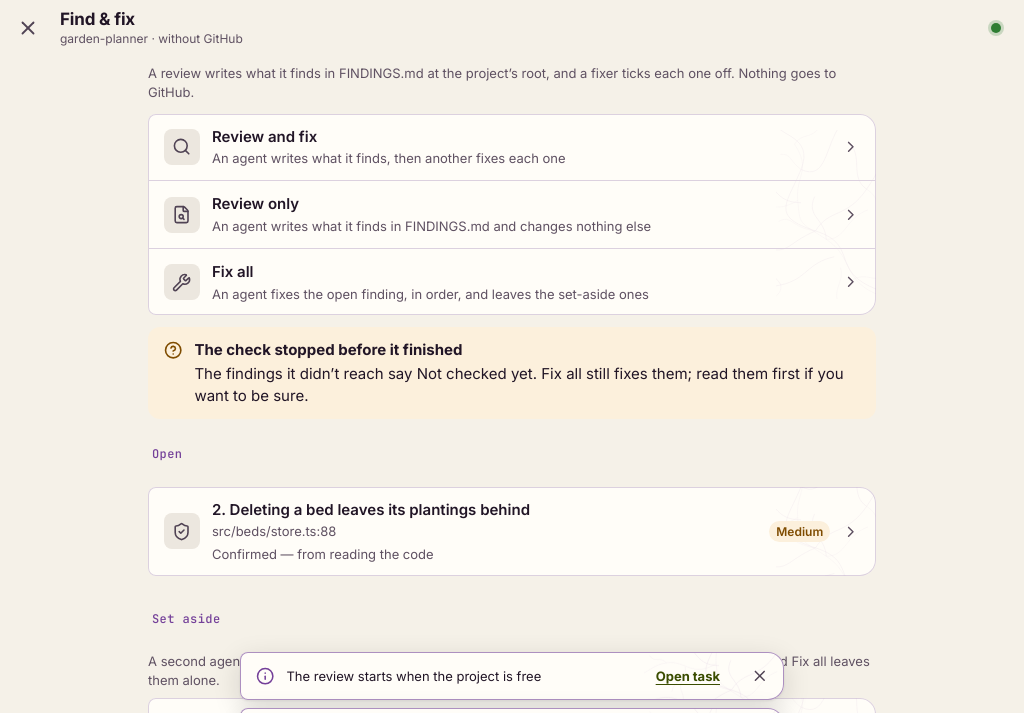
says when the check stopped before it finished, and doesn't hold Fix all for it
Expected: the text "The check stopped before it finished" is shown, [194,340,462,360]
Click the button "Fix all": coordinates (182, 282) [148,248,876,316]
Wait 900 ms
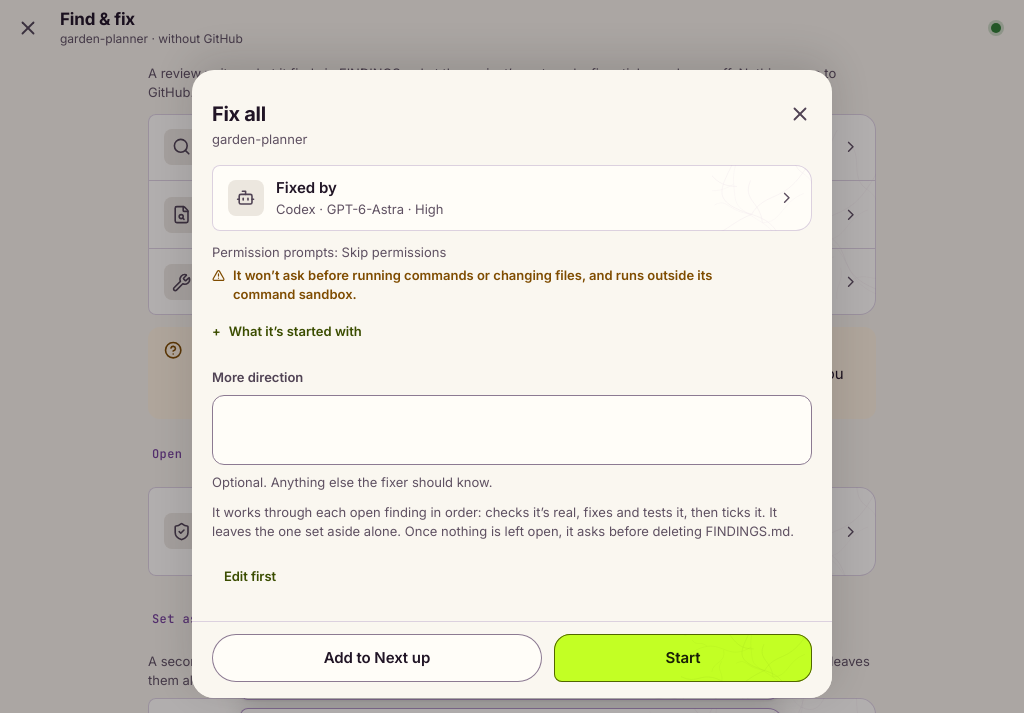
Expected: the button "Start" is shown, [554,634,812,682]
